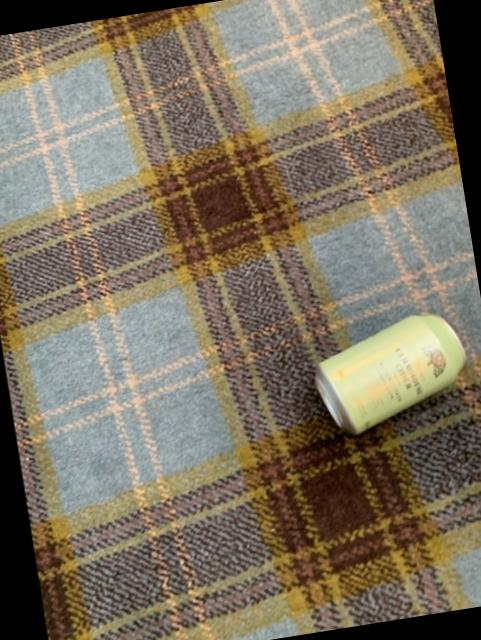metal: (313, 312, 462, 431)
